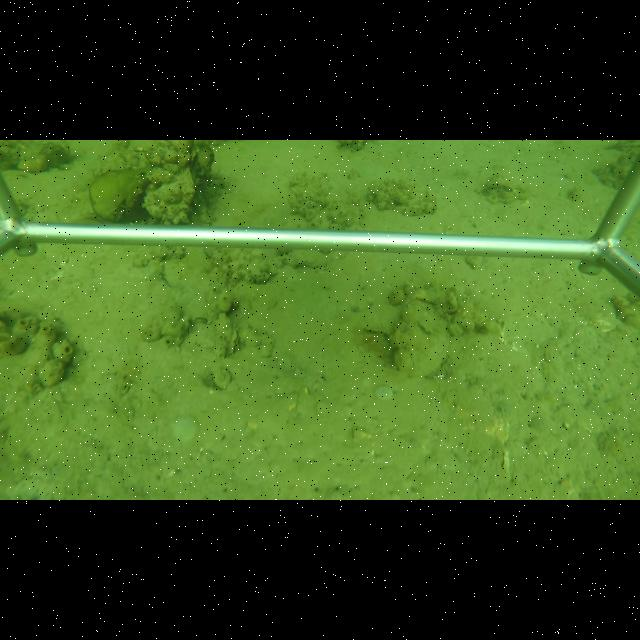Oyster-Closed: (390, 297, 453, 381), (142, 166, 195, 224), (227, 326, 242, 357)
